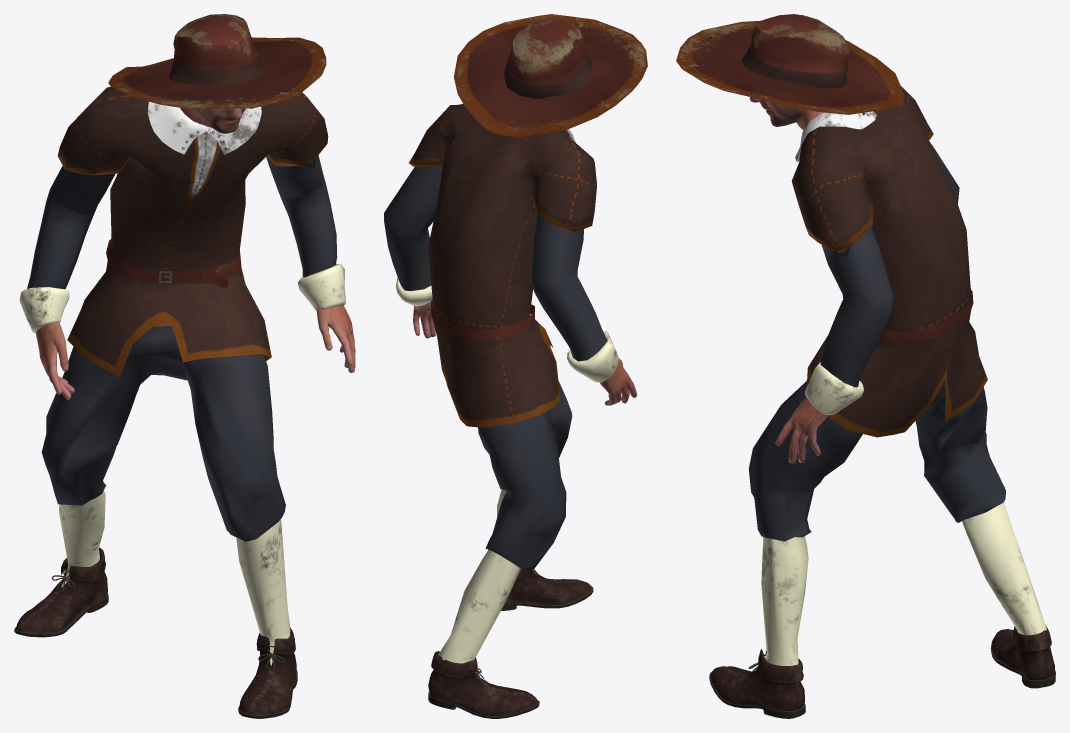
The model's file is CanonIdleSoldierSample.fbx.
The picture shows the model from 3 angles, left to right: view 1: azimuth 30°, elevation 25°; view 2: azimuth 150°, elevation 25°; view 3: azimuth 270°, elevation 25°; orthographic projection. The views are drawn at different scales.
Parts seen in each view (by area): view 1: CanonIdleSoldierLOD0; view 2: CanonIdleSoldierLOD0; view 3: CanonIdleSoldierLOD0.
Boxes of the visible parts, box(x1,y1,x2,y2) form: CanonIdleSoldierLOD0: box(14, 14, 355, 718); CanonIdleSoldierLOD0: box(384, 14, 647, 718); CanonIdleSoldierLOD0: box(676, 14, 1055, 718).
Size of what is drawn, in the model's own units: 74.85 by 172 by 88.58.
